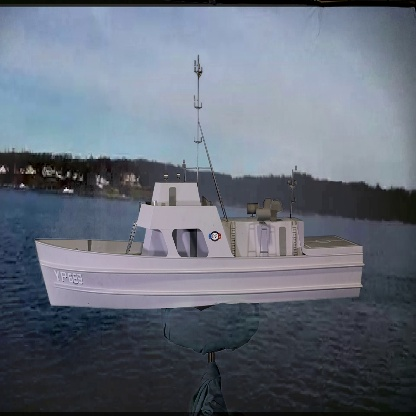YP689: (33, 52, 366, 311)
